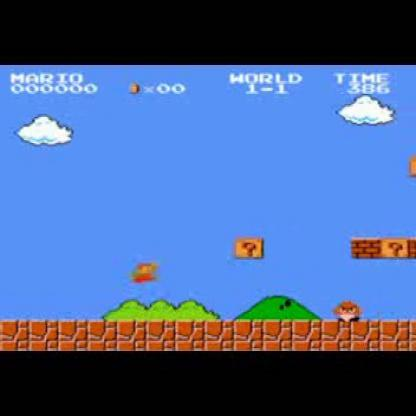Goomba: (333, 300, 360, 324)
